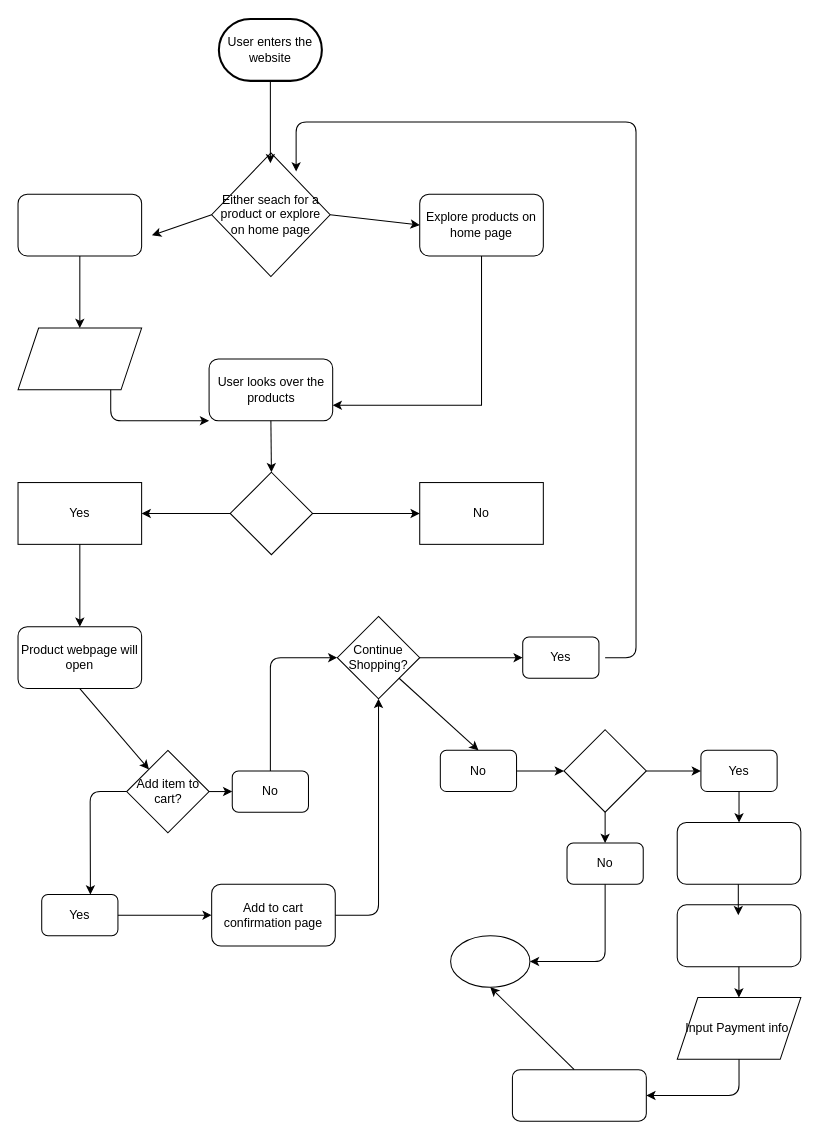
Some shapes in this 819 by 1139 pixel diagram are drawn without their labels. The shapes that lost their labels are listed below. From the top down, each one's box as (x1, y1, x2, y2) in pixels, then its label:
(17, 193, 142, 256): Search for a product
(17, 327, 142, 390): User input for product search
(229, 471, 313, 555): Will user view the product?
(563, 729, 646, 812): Checkout?
(676, 821, 801, 884): View Cart
(676, 904, 801, 967): View Payment
(450, 935, 530, 987): Leave website
(511, 1069, 646, 1121): Order confirmation and send email to user
